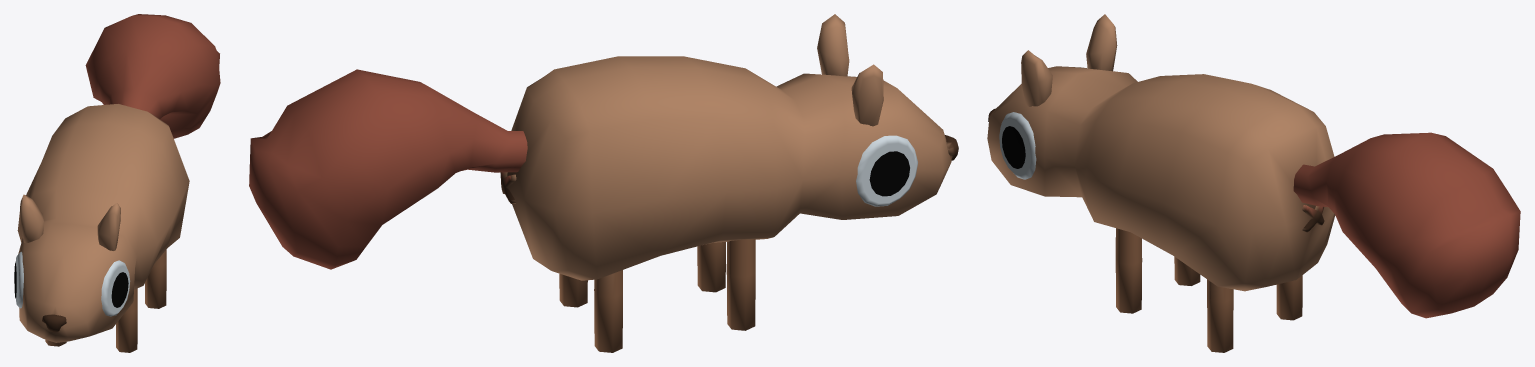
File: Squirrel.glb
The picture shows the model from 3 angles, left to right: view 1: azimuth 30°, elevation 25°; view 2: azimuth 150°, elevation 25°; view 3: azimuth 270°, elevation 25°; orthographic projection. The views are drawn at different scales.
Visible parts, largest first — view 1: 161; view 2: 161; view 3: 161.
Boxes of the visible parts, x1=… form: 161: x1=14, y1=14, x2=220, y2=352; 161: x1=249, y1=14, x2=958, y2=352; 161: x1=987, y1=14, x2=1520, y2=352.
Size of the model in its own units: 0.8547 by 0.4895 by 0.923.
